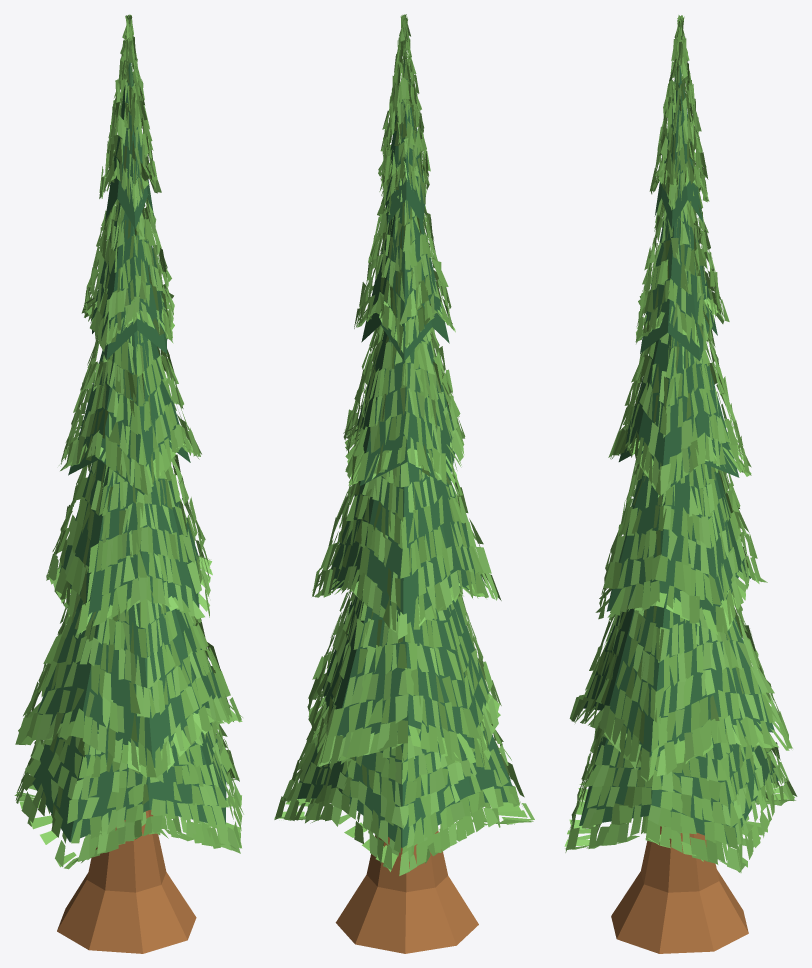
File: TREE.fbx
3 renders of one model, left to right at view 1: azimuth 30°, elevation 25°; view 2: azimuth 150°, elevation 25°; view 3: azimuth 270°, elevation 25°, orthographic.
Visible parts, largest first — view 1: Cylinder.043; view 2: Cylinder.043; view 3: Cylinder.043.
Part boxes in pixels (x1=…): Cylinder.043: x1=14, y1=14, x2=243, y2=953; Cylinder.043: x1=274, y1=14, x2=534, y2=953; Cylinder.043: x1=564, y1=15, x2=797, y2=953.
Bounding box in the file's own units: 1708 × 7335 × 1701.
